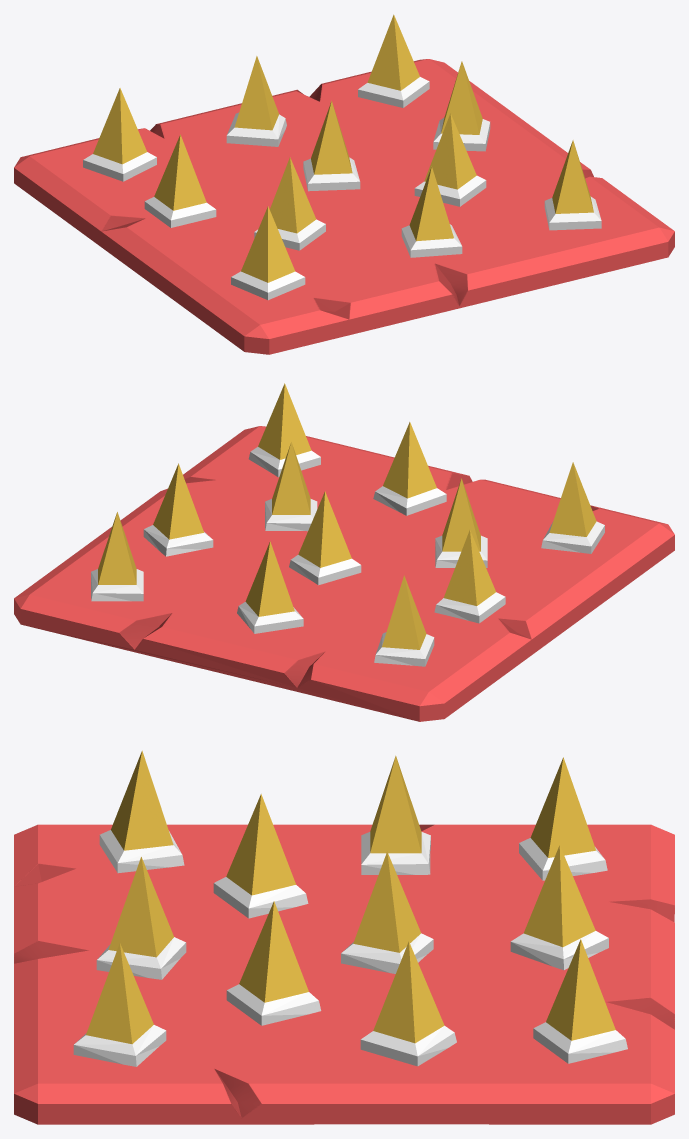
The model's file is obstcle_Spikemat.fbx.
3 views of the same model, one above another, from view 1: azimuth 30°, elevation 25°; view 2: azimuth 150°, elevation 25°; view 3: azimuth 270°, elevation 25° (orthographic). The views are drawn at different scales.
Parts seen in each view (by area): view 1: Box007; view 2: Box007; view 3: Box007.
Boxes of the visible parts, box(x1,y1,x2,y2) form: Box007: box(14, 14, 674, 354); Box007: box(14, 383, 674, 721); Box007: box(14, 750, 674, 1124).
Size of the model in its own units: 154 by 34.92 by 154.
Materials: 1 (1 with a texture image).
